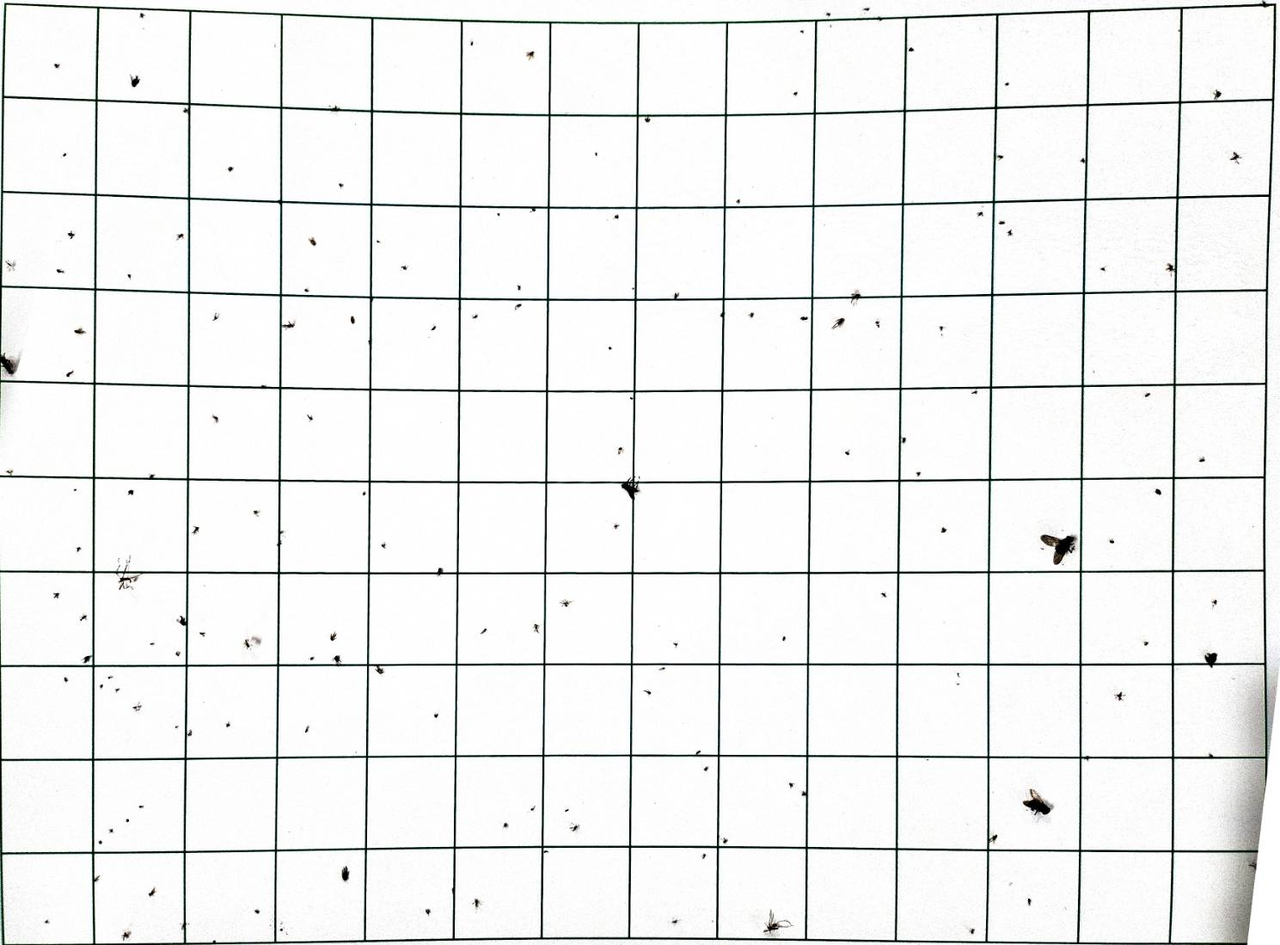fly: (1040, 534, 1076, 564), (1022, 787, 1053, 815), (0, 352, 20, 376), (621, 476, 641, 498)
test: (114, 554, 141, 589), (762, 907, 793, 933), (849, 289, 861, 306), (1205, 651, 1218, 665), (1229, 151, 1242, 164), (832, 317, 845, 329), (341, 864, 350, 880), (129, 74, 140, 87), (6, 259, 17, 272), (1165, 262, 1175, 276), (472, 896, 482, 909), (282, 319, 295, 329), (559, 598, 573, 607), (1212, 89, 1223, 100), (177, 614, 187, 626), (1113, 690, 1125, 700), (122, 927, 132, 939), (277, 531, 285, 545), (132, 701, 142, 712), (568, 822, 580, 831), (332, 654, 342, 664), (147, 885, 157, 895), (243, 638, 252, 649), (82, 653, 92, 662), (375, 664, 384, 674), (308, 236, 317, 246), (179, 921, 188, 931), (526, 50, 535, 60), (74, 327, 86, 334), (989, 832, 997, 842), (532, 623, 540, 633), (938, 325, 945, 336), (436, 566, 444, 575), (79, 613, 88, 621), (93, 873, 101, 882), (67, 230, 75, 239), (1247, 860, 1256, 868), (330, 631, 337, 641), (330, 105, 340, 112), (1259, 2, 1269, 9), (900, 436, 908, 444), (192, 525, 200, 533), (306, 413, 314, 421), (176, 233, 184, 241), (672, 916, 680, 924), (643, 688, 652, 695), (874, 319, 881, 328), (212, 414, 219, 423), (65, 370, 74, 377), (212, 312, 219, 321), (1154, 488, 1162, 495), (673, 291, 680, 299), (127, 488, 135, 495), (617, 446, 624, 454), (480, 627, 487, 635), (304, 724, 310, 733), (844, 448, 851, 455), (644, 116, 651, 123), (672, 640, 679, 647), (515, 303, 522, 310), (253, 509, 260, 516), (430, 324, 437, 331), (969, 926, 976, 933), (53, 591, 60, 598), (309, 655, 316, 662), (303, 287, 310, 294), (800, 315, 808, 321), (722, 835, 728, 843), (187, 728, 193, 736), (1212, 598, 1218, 606), (471, 313, 479, 319), (425, 907, 431, 915), (6, 468, 14, 474), (863, 6, 871, 12), (798, 29, 806, 35), (350, 315, 355, 324), (1027, 896, 1032, 905), (56, 268, 65, 273), (880, 591, 887, 597), (1080, 157, 1086, 164), (996, 154, 1003, 160), (748, 312, 755, 318), (1198, 456, 1205, 462), (1143, 640, 1150, 646), (941, 526, 947, 533), (1144, 391, 1151, 397), (613, 213, 620, 219), (801, 789, 807, 796), (908, 46, 914, 53), (148, 472, 155, 478), (76, 545, 82, 552), (788, 781, 795, 787), (381, 541, 387, 548), (182, 107, 188, 114), (614, 522, 620, 529), (701, 851, 707, 858), (227, 166, 234, 172), (529, 804, 536, 810), (1007, 229, 1013, 236), (1099, 266, 1106, 272), (502, 821, 509, 827), (401, 264, 408, 270), (199, 631, 206, 637), (54, 63, 61, 69), (139, 12, 145, 19), (564, 807, 570, 814), (1004, 81, 1010, 88), (998, 220, 1006, 225), (1085, 754, 1090, 762), (972, 388, 978, 394), (915, 470, 921, 476), (703, 765, 709, 771), (1109, 537, 1115, 543), (977, 210, 983, 216), (695, 748, 701, 754), (63, 675, 69, 681), (225, 721, 231, 727), (433, 712, 439, 718), (338, 182, 344, 188), (1208, 751, 1214, 757), (254, 907, 260, 913), (108, 827, 114, 833), (825, 11, 831, 17), (44, 917, 50, 923), (98, 839, 104, 845), (175, 651, 181, 657), (781, 634, 786, 641), (469, 40, 474, 47), (107, 675, 114, 680), (261, 384, 266, 391), (517, 283, 522, 290), (530, 208, 537, 213), (659, 666, 666, 671), (793, 91, 798, 97), (735, 198, 741, 203), (127, 273, 132, 279), (138, 803, 144, 808), (114, 688, 120, 693), (99, 684, 105, 689), (719, 312, 724, 318), (125, 817, 130, 822), (62, 152, 67, 157), (544, 849, 549, 854), (956, 672, 961, 677), (174, 725, 178, 730), (362, 491, 366, 496), (376, 239, 380, 244), (608, 346, 612, 351), (496, 213, 501, 217), (594, 152, 598, 157), (73, 488, 77, 492), (629, 396, 633, 400), (956, 683, 961, 686), (631, 287, 636, 290), (151, 642, 154, 646)
